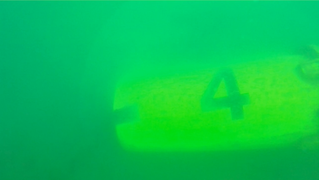4: (204, 69, 248, 120)
pipe: (113, 42, 317, 153)
